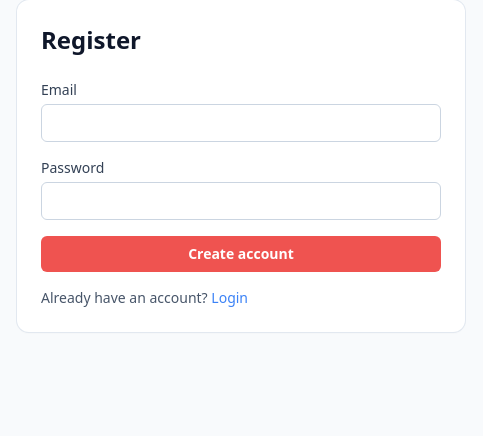
Test: RegisterPage › binds server fieldErrors to inputs
The image size is (483, 436).
In the field labelled "Email": (241, 123) left=41, top=104, right=441, bottom=142, type "ash@example.com"
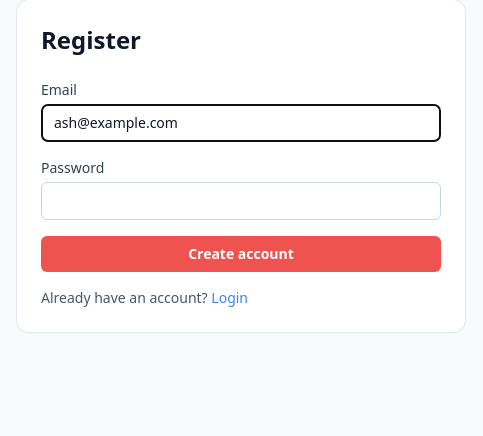
In the password field labelled "Password": (241, 201) left=41, top=182, right=441, bottom=220, type "password123"
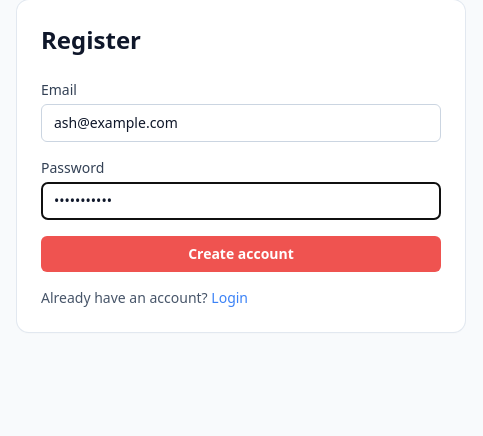
Click the button "Create account": (241, 254) left=41, top=236, right=441, bottom=272
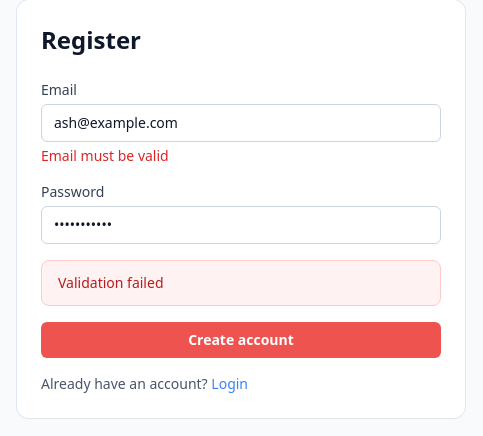
Check: the text "Email must be valid" is shown, box left=41, top=146, right=169, bottom=165
